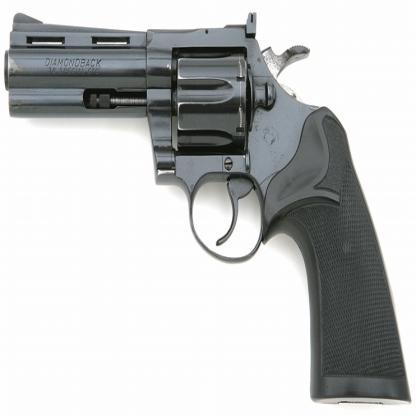gun: (2, 1, 415, 413)
